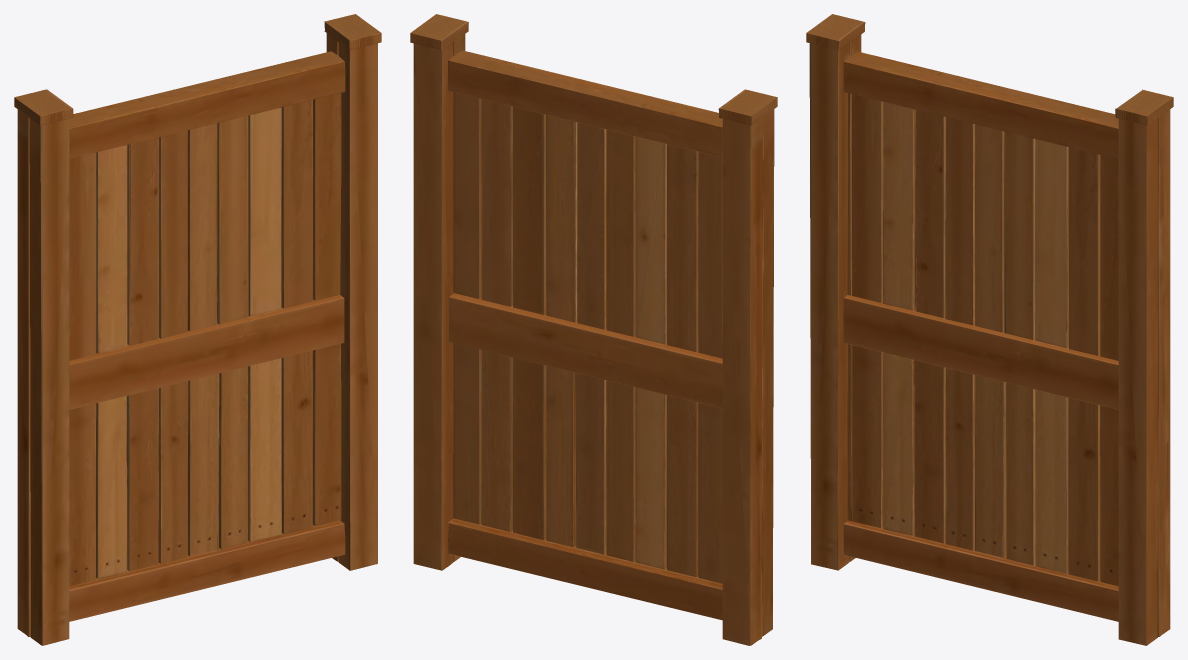
The model's file is fence_privacy.glb.
3 views of the same model, side by side, from view 1: azimuth 30°, elevation 25°; view 2: azimuth 150°, elevation 25°; view 3: azimuth 330°, elevation 25° (orthographic).
Size of the model in its own units: 0.6402 by 0.9512 by 0.0844.
Materials: 1 (1 with a texture image).
